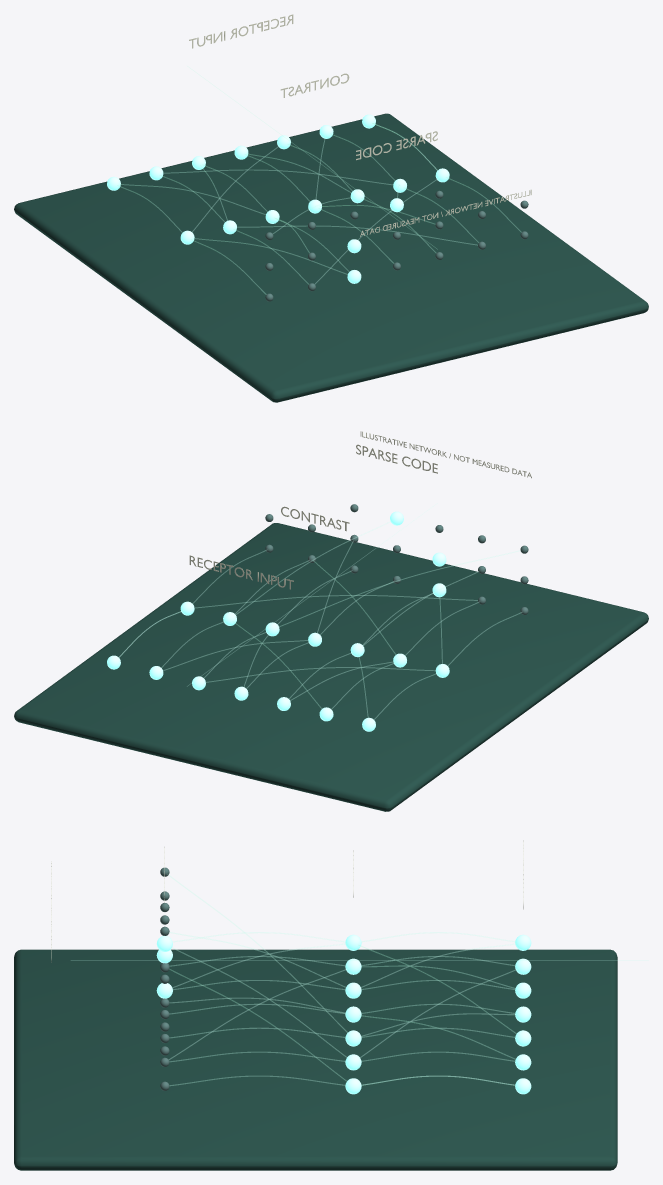
Rendered from aerosense_05_decoder_v4.glb.
The picture shows the model from 3 angles, top to bottom: view 1: azimuth 30°, elevation 25°; view 2: azimuth 150°, elevation 25°; view 3: azimuth 270°, elevation 25°; orthographic projection. The views are drawn at different scales.
Visible parts, largest first — view 1: Neural_exhibit_base, Decoder_note; view 2: Neural_exhibit_base, Decoder_note; view 3: Neural_exhibit_base, FLIGHT_PATH_05.
Boxes of the visible parts, x1,y1,x2,y2 form: Neural_exhibit_base: (14,113,648,402); Decoder_note: (360,189,531,236); Neural_exhibit_base: (14,523,648,811); Decoder_note: (360,431,531,478); Neural_exhibit_base: (14,949,617,1170); FLIGHT_PATH_05: (71,960,648,960).
Size of the model in its own units: 8 by 3.46 by 10.1.
